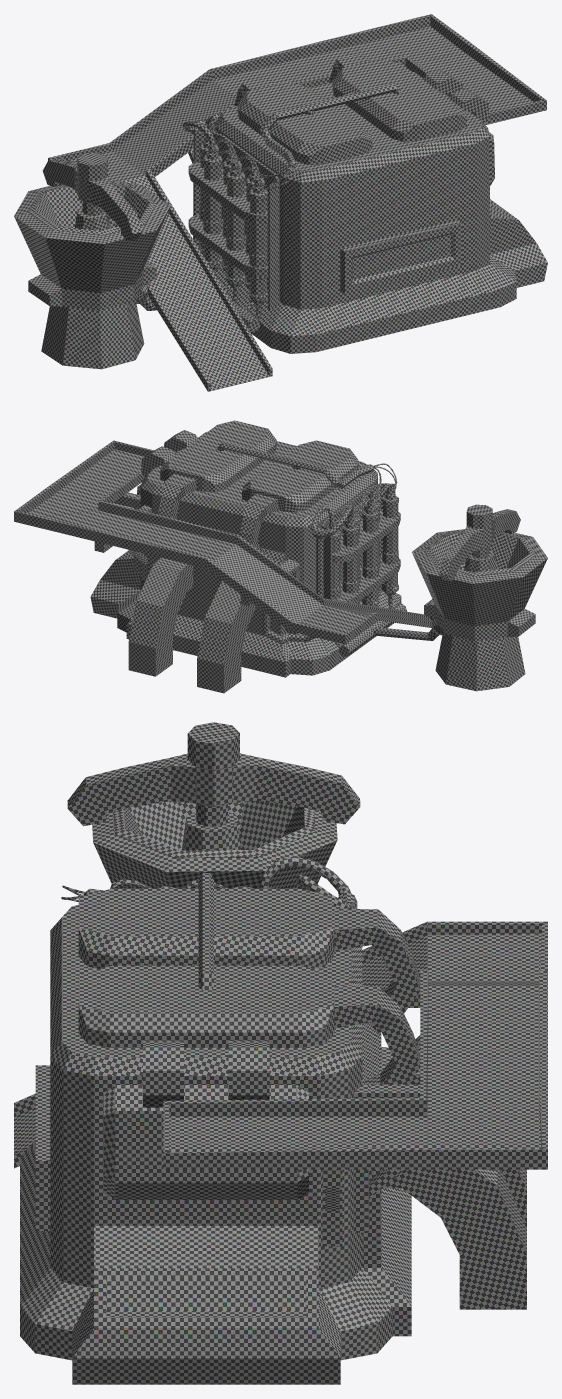
The model's file is smelter.glb.
The picture shows the model from 3 angles, top to bottom: view 1: azimuth 30°, elevation 25°; view 2: azimuth 150°, elevation 25°; view 3: azimuth 270°, elevation 25°; orthographic projection. The views are drawn at different scales.
Visible parts, largest first — view 1: Плавильня, Пандус, Дополнительные емкости, крашер, центрифуги, Подставка, Железная часть окна, подвижная щека, крепление центрифуг, Терминал, крашер.001, связь центрифуг (+4 smaller); view 2: Пандус, Дополнительные емкости, Плавильня, трубы, крашер, Cube.004, центрифуги, Подставка, подвижная щека, крашер.001, связь центрифуг, Терминал (+10 smaller); view 3: Пандус, Дополнительные емкости, Плавильня, Терминал, емкость, подвижная щека, трубы, крашер, крашер.001, Cube.004, Железная часть окна, Опора.001 (+4 smaller).
Boxes of the visible parts, box(x1,y1,x2,y2) form: Плавильня: box(214, 71, 516, 353); Пандус: box(48, 14, 546, 391); Дополнительные емкости: box(234, 54, 466, 164); крашер: box(14, 181, 170, 310); центрифуги: box(199, 135, 267, 305); Подставка: box(41, 300, 144, 369); Железная часть окна: box(340, 220, 462, 293); подвижная щека: box(42, 152, 142, 241); крепление центрифуг: box(195, 131, 279, 310); Терминал: box(490, 199, 547, 287); крашер.001: box(28, 184, 156, 235); связь центрифуг: box(188, 162, 267, 276); Пандус: box(14, 440, 432, 644); Дополнительные емкости: box(158, 420, 358, 554); Плавильня: box(117, 432, 401, 675); трубы: box(128, 557, 256, 693); крашер: box(412, 529, 547, 640); Cube.004: box(126, 547, 290, 677); центрифуги: box(329, 486, 398, 606); Подставка: box(435, 632, 525, 691); подвижная щека: box(438, 504, 520, 581); крашер.001: box(424, 531, 535, 576); связь центрифуг: box(332, 509, 400, 603); Терминал: box(90, 550, 140, 618); Пандус: box(14, 921, 547, 1169); Дополнительные емкости: box(78, 888, 420, 1084); Плавильня: box(20, 905, 392, 1360); Терминал: box(72, 1226, 340, 1384); емкость: box(103, 1040, 308, 1199); подвижная щека: box(67, 722, 360, 826); трубы: box(381, 1047, 526, 1309); крашер: box(92, 809, 337, 890); крашер.001: box(113, 800, 315, 858); Cube.004: box(362, 983, 411, 1336); Железная часть окна: box(35, 1065, 50, 1230); Опора.001: box(354, 1084, 420, 1232).
Bounding box in the file's own units: 14.18 × 5.55 × 7.81.
Materials: 1 (1 with a texture image).
